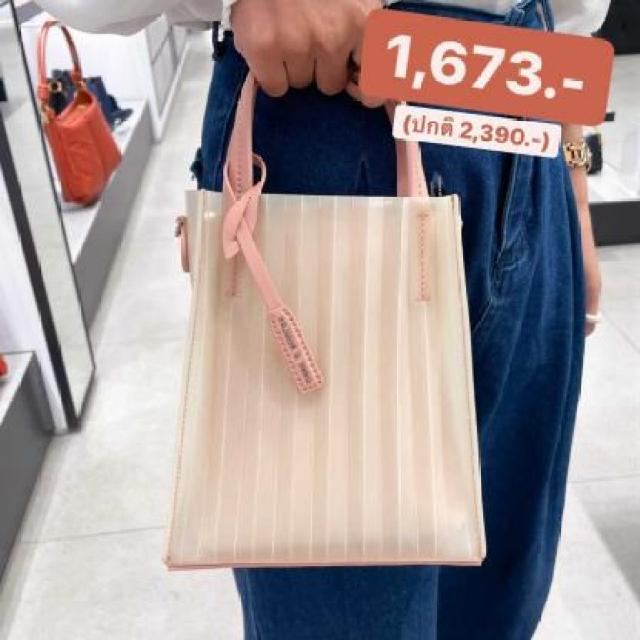Bag: (136, 32, 515, 600)
